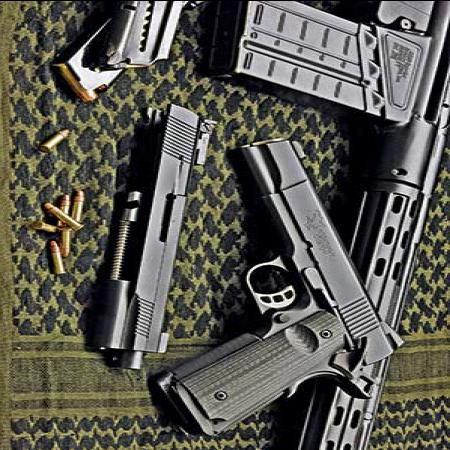Pistol: (162, 136, 409, 438)
